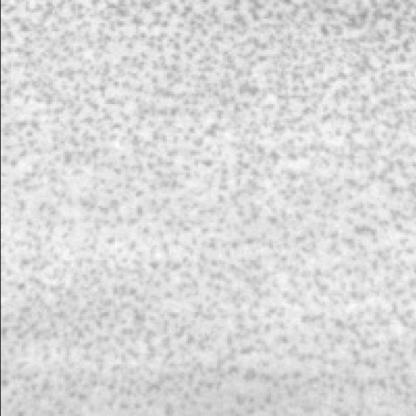pitted_surface: (13, 2, 408, 404)
